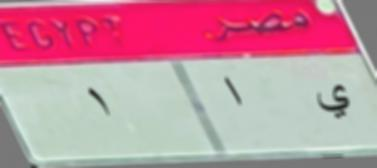1: (83, 84, 114, 124)
alif: (216, 69, 248, 110)
yaa: (307, 79, 354, 120)
